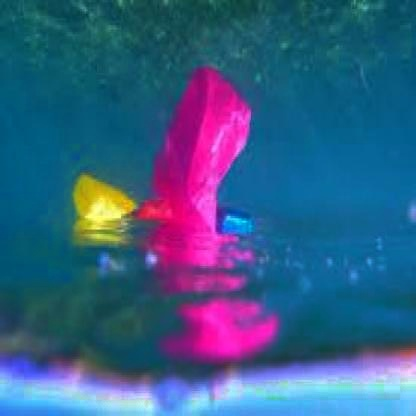pbag: (135, 59, 254, 246), (60, 161, 138, 232)
